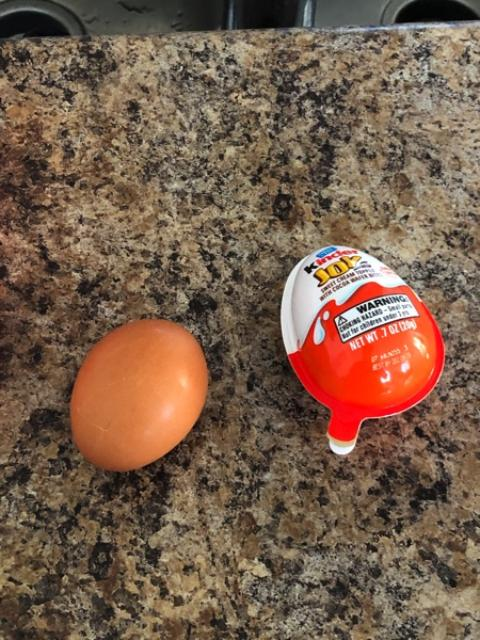Roto: (68, 317, 209, 473)
